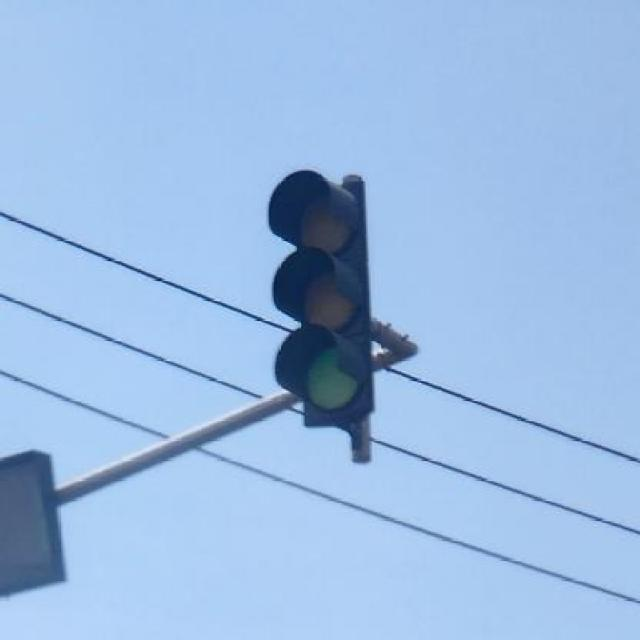traffic light: (271, 175, 374, 425)
